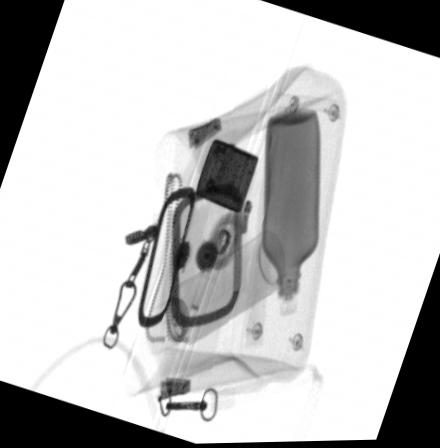Lighter: (194, 138, 259, 213)
Sprayer: (141, 231, 285, 356)
